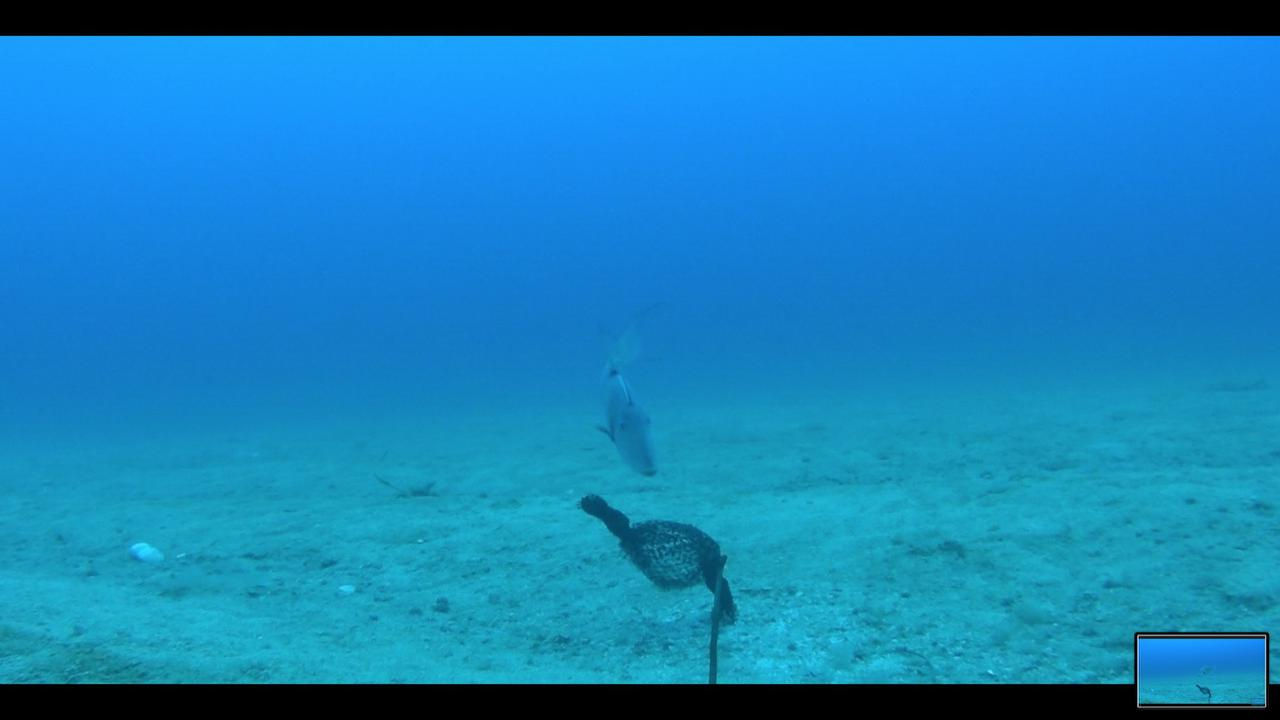balistes: (583, 296, 675, 480)
